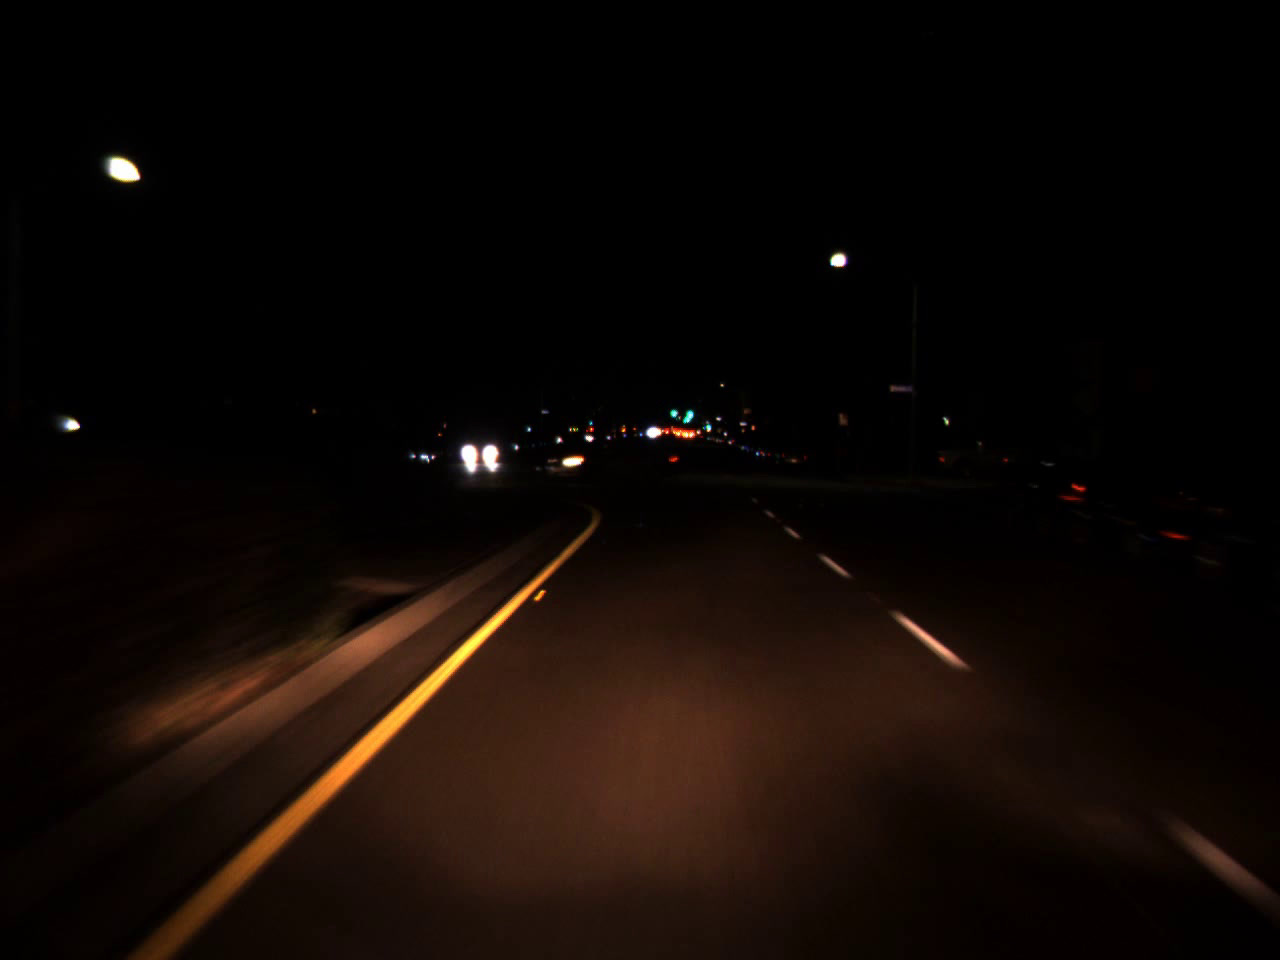go: (683, 398, 695, 425), (668, 399, 677, 419), (702, 415, 712, 433)
